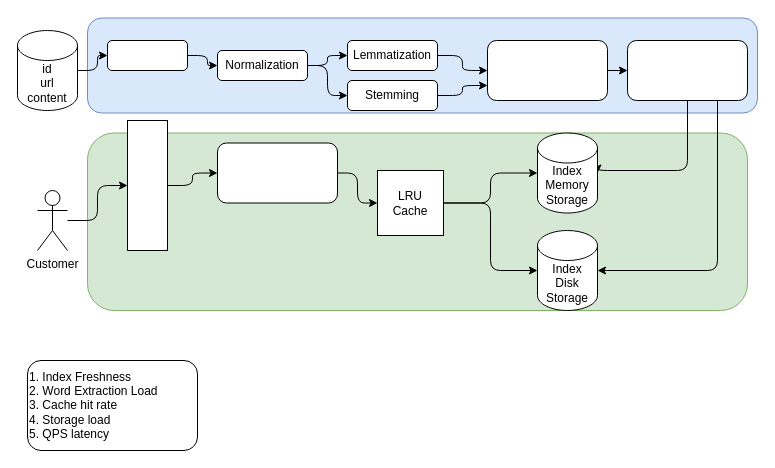
The diagram is 775 pixels wide and 468 high, and some of its shapes have lost their labels. Here are the shapes that lost their labels. From the top down, the box of each, then its label:
(106, 40, 188, 70): Tokenization
(486, 40, 608, 100): Keyword Extraction
(626, 40, 748, 100): Inverted Index Builder
(126, 120, 168, 250): LB Gateway Firewaall
(216, 142, 338, 203): Query Processor
